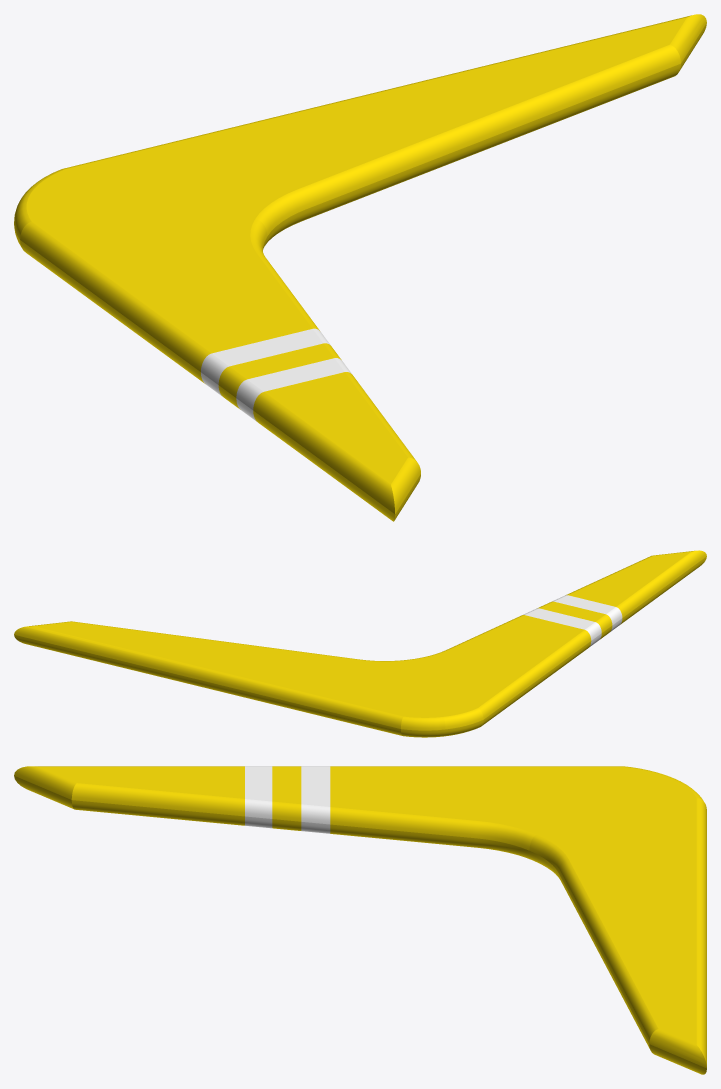
The model's file is boomerang.y.glb.
The picture shows the model from 3 angles, top to bottom: view 1: azimuth 30°, elevation 25°; view 2: azimuth 150°, elevation 25°; view 3: azimuth 270°, elevation 25°; orthographic projection. The views are drawn at different scales.
Parts seen in each view (by area): view 1: Geom3D (×2); view 2: Geom3D (×2); view 3: Geom3D (×2).
Boxes of the visible parts, <box> form: Geom3D (×2): <box>14,14,706,521</box>; Geom3D (×2): <box>14,550,706,737</box>; Geom3D (×2): <box>14,766,706,1074</box>.
Size of the model in its own units: 0.3048 by 0.0127 by 0.3048.
